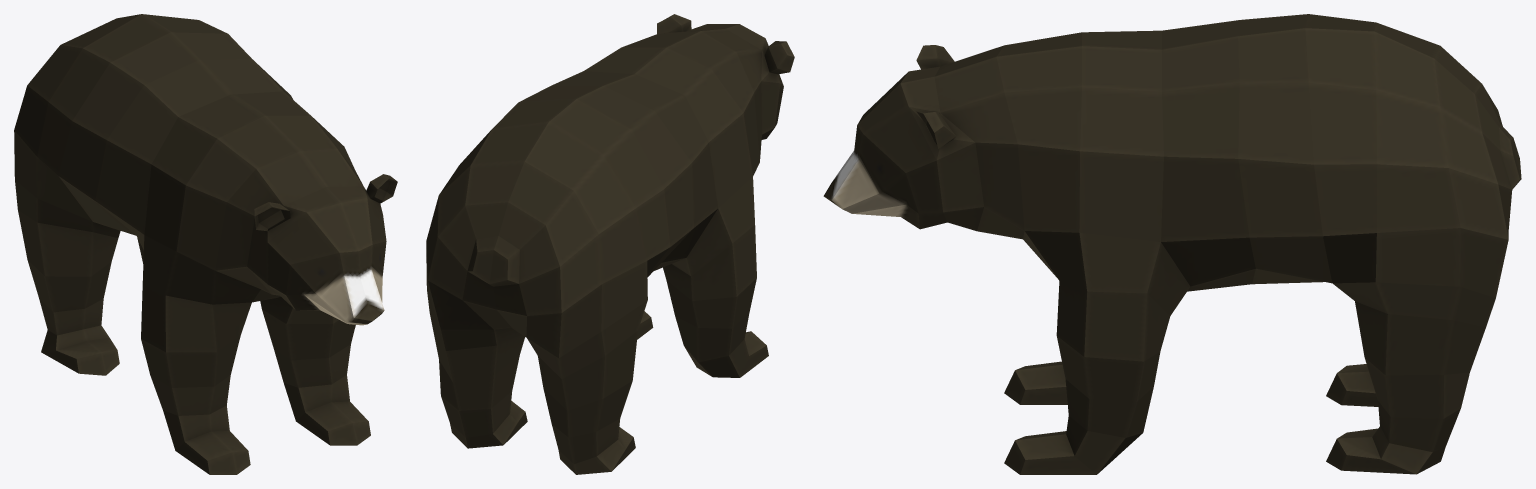
File: bear.glb
The picture shows the model from 3 angles, left to right: view 1: azimuth 30°, elevation 25°; view 2: azimuth 150°, elevation 25°; view 3: azimuth 270°, elevation 25°; orthographic projection. The views are drawn at different scales.
Parts seen in each view (by area): view 1: BlackBear; view 2: BlackBear; view 3: BlackBear.
Boxes of the visible parts, bbox=[...] form: BlackBear: bbox=[14, 14, 397, 474]; BlackBear: bbox=[426, 14, 794, 474]; BlackBear: bbox=[823, 14, 1521, 474].
Bounding box in the file's own units: 6.68 × 10.22 × 16.13.
Materials: 1 (1 with a texture image).
